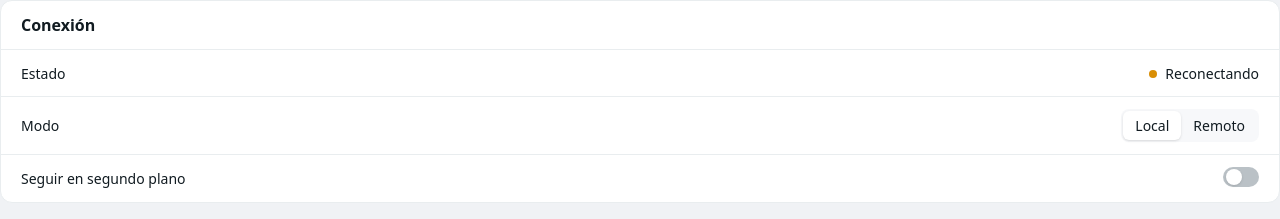
Test: ConnectionSection (Ajustes → Conexión) › «Seguir en segundo plano» solo existe en el escritorio y guarda el cambio
Click the switch named "Seguir en segundo plano". click: (1241, 177)
box: [1223,167,1259,187]
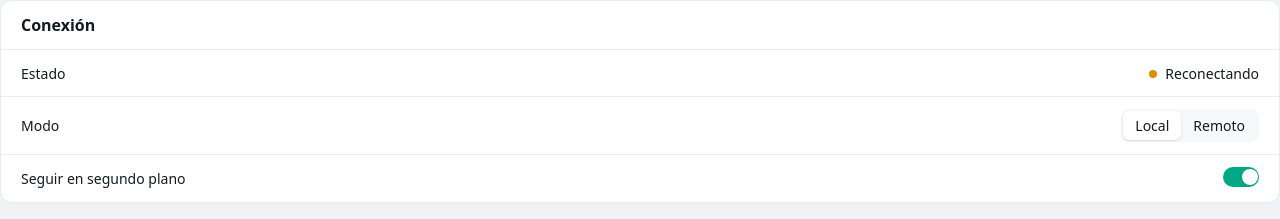
expect the switch named "Seguir en segundo plano" is checked: met, box [1223,167,1259,187]
